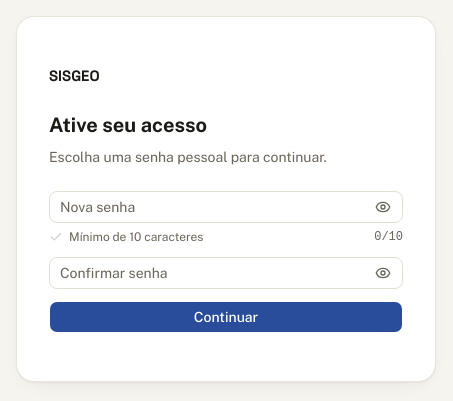
Test: AccountActionForm › mostra a regra de tamanho antes de digitar e acompanha a contagem
The image size is (453, 401).
Expected: the text "Mínimo de 10 caracteres 0/10" is shown, [49,229,403,245]
Type "segredo" into the password field with placeholder "Nova senha". click: (226, 207)
box: [49,191,403,223]
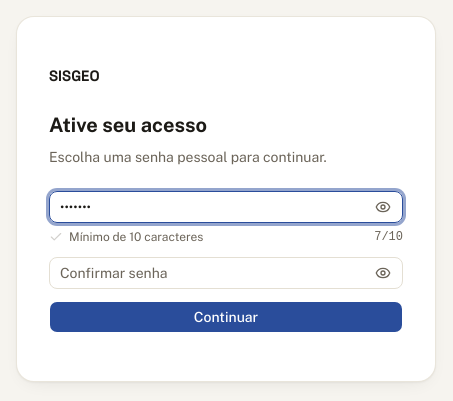
Result: the text "Mínimo de 10 caracteres 7/10" is shown at [49,229,403,245]
